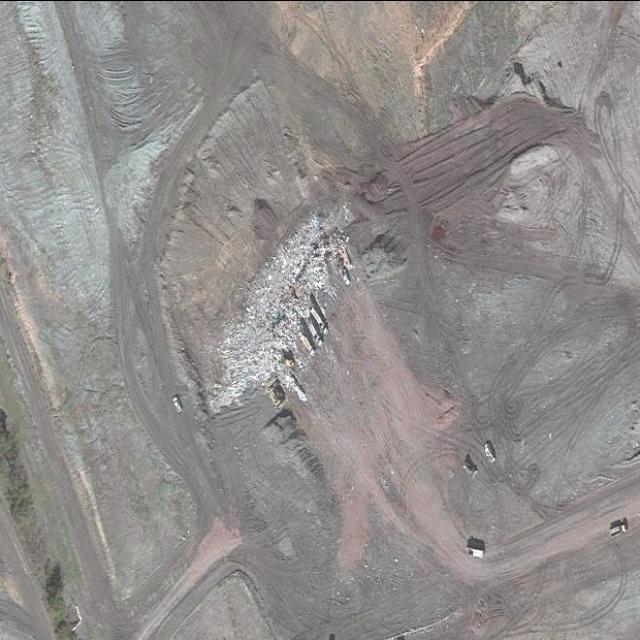dump_site: (187, 190, 372, 440)
